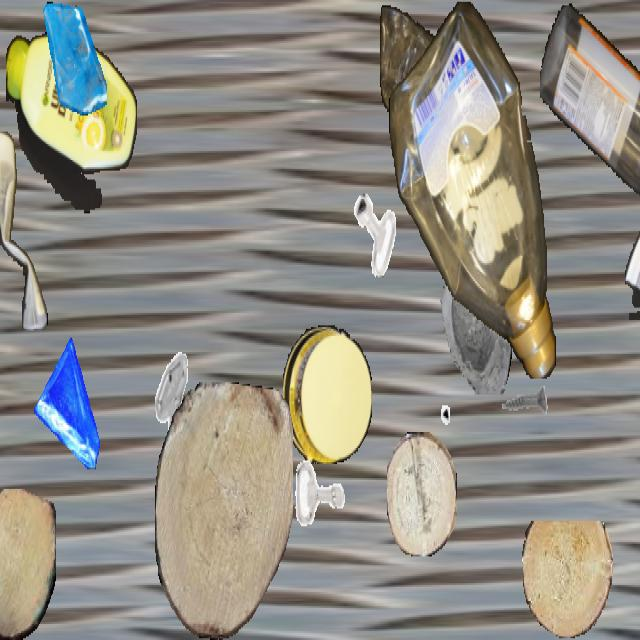glass: (425, 234, 515, 394), (34, 338, 108, 469), (43, 1, 107, 116)
metal: (289, 439, 351, 549), (141, 349, 201, 455), (497, 363, 549, 455), (400, 353, 450, 442), (351, 190, 399, 276)
plastic: (389, 1, 557, 378), (6, 32, 136, 213), (540, 2, 640, 229), (283, 325, 371, 464), (0, 132, 48, 330), (380, 2, 454, 126), (625, 146, 640, 320)
wood: (155, 382, 293, 638), (522, 521, 612, 638), (387, 432, 457, 556), (0, 489, 55, 638)
